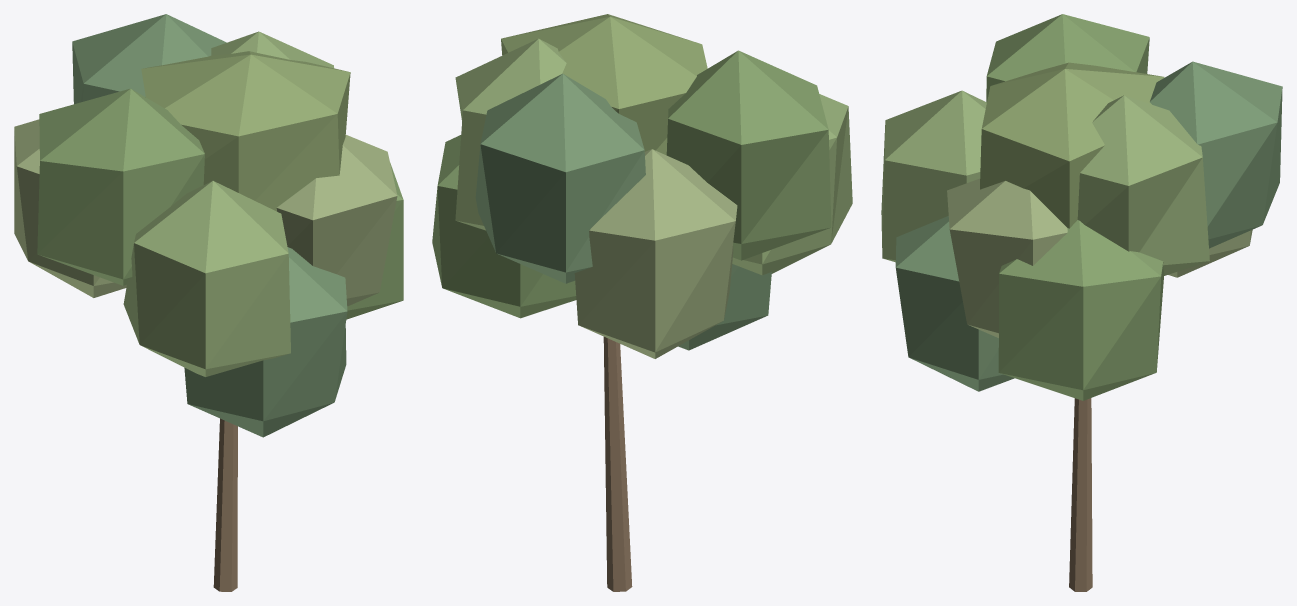
3 views of the same model, side by side, from view 1: azimuth 30°, elevation 25°; view 2: azimuth 150°, elevation 25°; view 3: azimuth 270°, elevation 25° (orthographic). The views are drawn at different scales.
Size of the model in its own units: 9.38 by 12.85 by 8.86.
